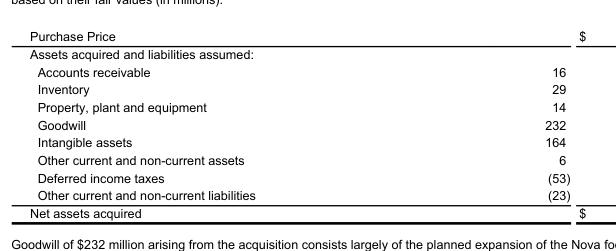table: (29, 28, 585, 219)
table column: (29, 28, 399, 219), (399, 28, 573, 219), (573, 28, 585, 219)
table column header: (29, 28, 585, 44)
table projected row header: (29, 44, 585, 62)
table row: (29, 44, 585, 62), (29, 62, 585, 80), (29, 97, 585, 115), (29, 115, 585, 133), (29, 150, 585, 168), (29, 168, 585, 186), (29, 80, 585, 97), (29, 133, 585, 150), (29, 186, 585, 203), (29, 28, 585, 44), (29, 203, 585, 219)
